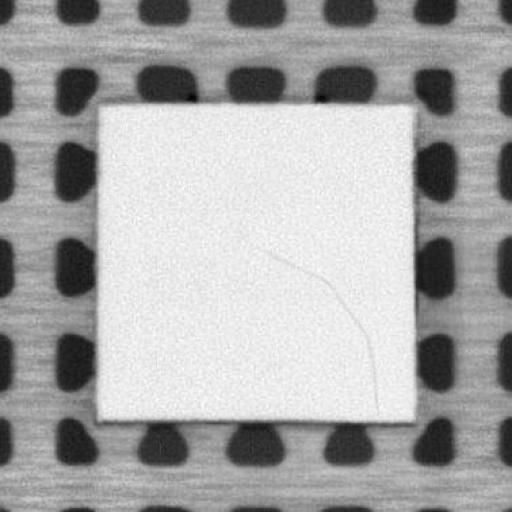DIE_CRACK: (266, 250, 384, 411)
